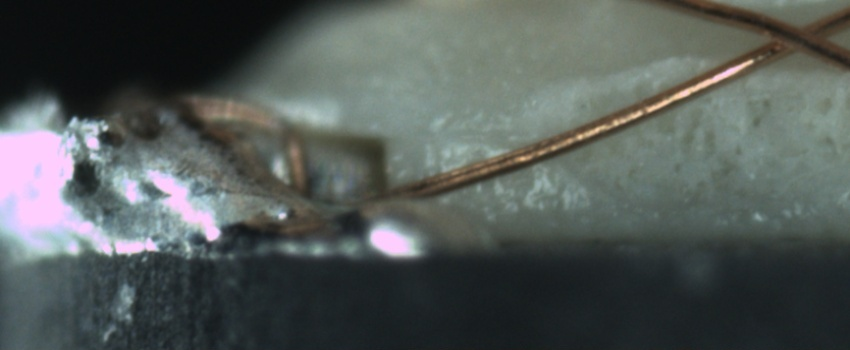CL: (746, 5, 838, 64)
DL: (432, 102, 533, 166)
TE: (184, 88, 317, 206)
